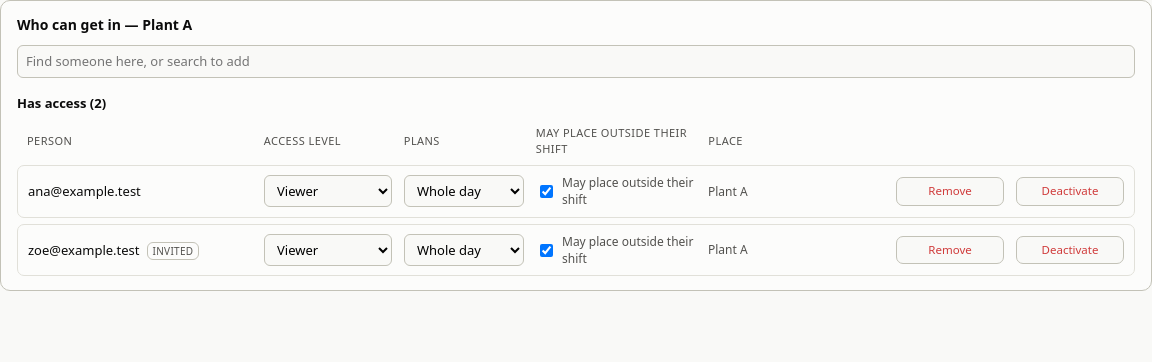
SiteAccessPanel: the invite control › is offered when an email search matches NOBODY in the company
This screenshot has width=1152, height=362.
In the search field named "search the company by email": (576, 62) [17, 45, 1135, 78], type "newcomer@example.test"
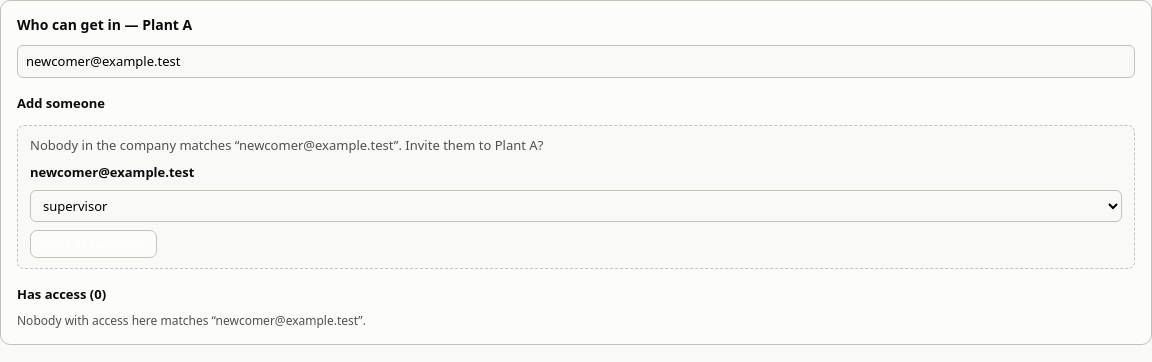
Now the text "Invite them to Plant A" is shown, box [30, 136, 543, 154]
Now the button "Invite as supervisor" is shown, box [30, 230, 157, 258]
Now the text "newcomer@example.test" is shown, box [30, 163, 194, 182]
